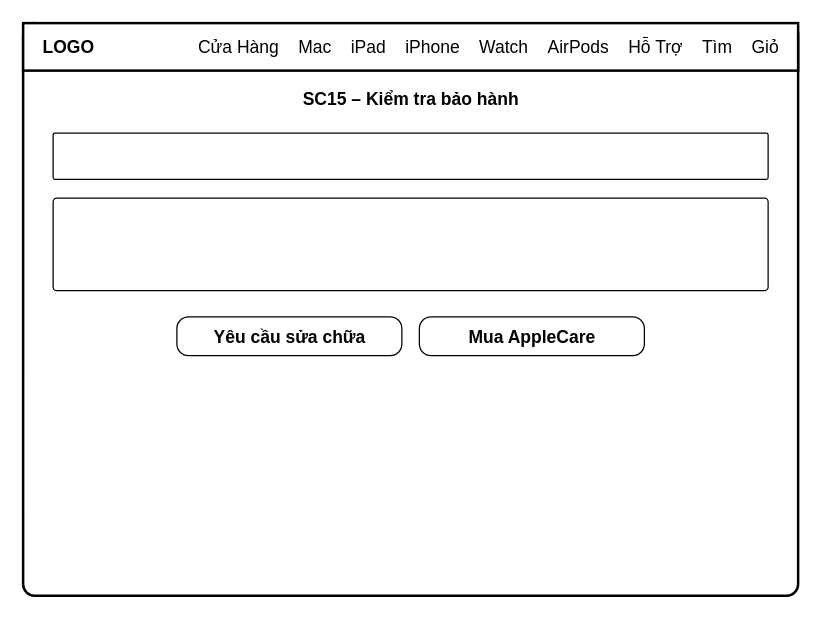
Some shapes in this 820 by 618 pixel diagram are drawn without their labels. The box of each missing label's shape, as (x1, y1, x2, y2) in pixels:
Phạm vi và tình trạng bảo hành: (52, 197, 768, 291)
Số sê-ri thiết bị: (52, 132, 768, 179)
